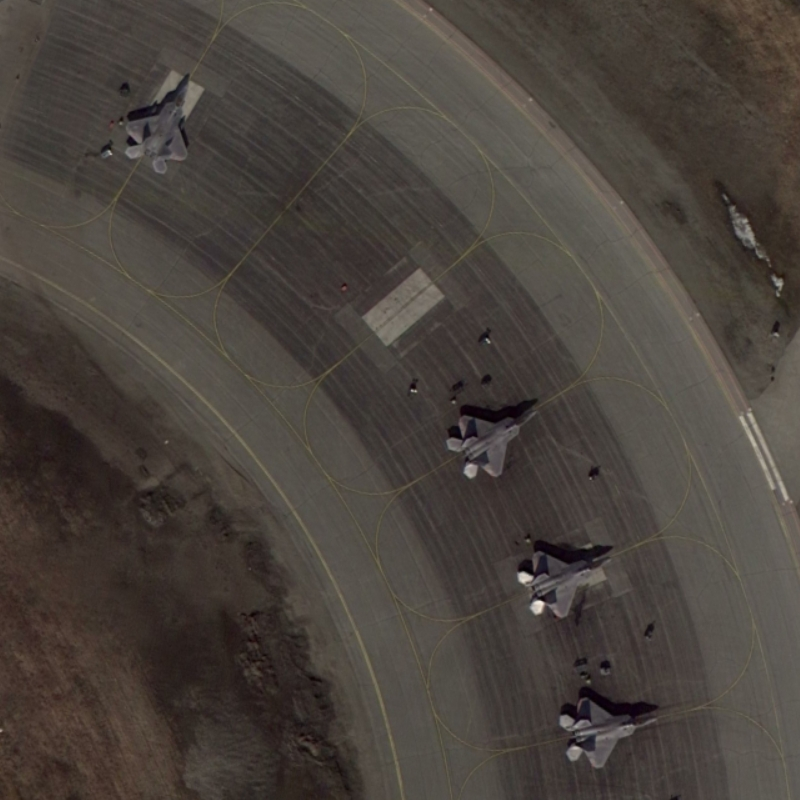A15: (107, 69, 207, 179), (549, 682, 665, 776), (440, 391, 545, 487), (510, 535, 622, 625)
